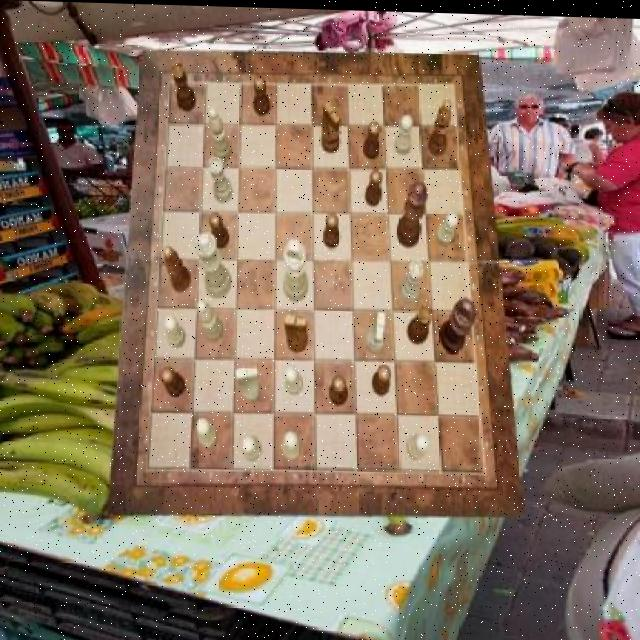bishop: (427, 96, 451, 154), (163, 245, 191, 292)
black-bishop: (440, 293, 475, 352)
black-king: (320, 99, 340, 151), (283, 313, 306, 352)
black-knight: (160, 365, 185, 397), (252, 75, 270, 114), (209, 213, 229, 248), (364, 165, 381, 204), (364, 119, 381, 158), (371, 362, 391, 395), (328, 372, 348, 404), (323, 212, 340, 248)
black-pawn: (396, 179, 426, 245)
black-queen: (171, 61, 195, 111), (406, 303, 432, 342)
black-rook: (210, 106, 232, 161), (198, 298, 225, 340)
white-bishop: (283, 237, 308, 300)
white-king: (235, 364, 260, 401), (364, 310, 386, 352)
white-knight: (436, 209, 459, 244), (163, 313, 184, 347), (395, 114, 412, 154), (196, 417, 217, 448), (406, 431, 429, 457), (281, 428, 300, 459), (240, 433, 262, 459), (284, 364, 301, 393)
white-pawn: (194, 231, 230, 297)
white-queen: (208, 156, 232, 202), (400, 257, 424, 301)
